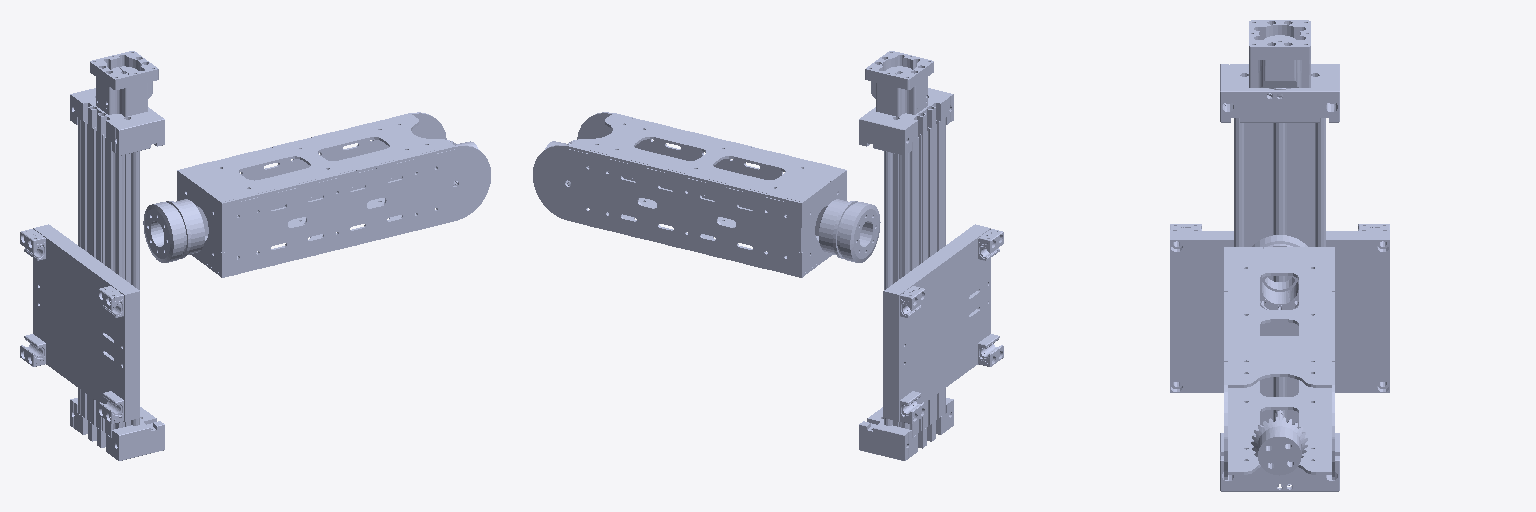
URDF robot description (gantry):
<?xml version="1.0" encoding="utf-8"?>
<!-- This URDF was automatically created by SolidWorks to URDF Exporter! Originally created by [author] ([email redacted]) 
     Commit Version: 1.6.0-4-g7f85cfe  Build Version: 1.6.7995.38578
     For more information, please see http://wiki.ros.org/sw_urdf_exporter -->
<robot
  name="gantry">
  <link
    name="base_link">
    <inertial>
      <origin
        xyz="0.273397746062969 0.0196335701823842 0.290424975718704"
        rpy="0 0 0" />
      <mass
        value="0.999102566758599" />
      <inertia
        ixx="0.000487064031842296"
        ixy="6.79087549974893E-07"
        ixz="1.23528453577318E-06"
        iyy="0.0114768570045371"
        iyz="-2.04757967514068E-08"
        izz="0.0112945243793031" />
    </inertial>
    <visual>
      <origin
        xyz="0 0 0"
        rpy="0 0 0" />
      <geometry>
        <mesh
          filename="package://gantry/meshes/base_link.STL" />
      </geometry>
      <material
        name="">
        <color
          rgba="0.792156862745098 0.819607843137255 0.933333333333333 1" />
      </material>
    </visual>
    <collision>
      <origin
        xyz="0 0 0"
        rpy="0 0 0" />
      <geometry>
        <mesh
          filename="package://gantry/meshes/base_link.STL" />
      </geometry>
    </collision>
  </link>
  <link
    name="X_gantry_link">
    <inertial>
      <origin
        xyz="-0.0698541814264949 0.412438460402414 0.612593275517403"
        rpy="0 0 0" />
      <mass
        value="2.7184408688585" />
      <inertia
        ixx="0.0276076361378352"
        ixy="-7.8180395929004E-05"
        ixz="-0.00894904523905823"
        iyy="0.0300491640122007"
        iyz="3.21852349643491E-05"
        izz="0.00955363785619821" />
    </inertial>
    <visual>
      <origin
        xyz="0 0 0"
        rpy="0 0 0" />
      <geometry>
        <mesh
          filename="package://gantry/meshes/X_gantry.STL" />
      </geometry>
      <material
        name="">
        <color
          rgba="0.792156862745098 0.819607843137255 0.933333333333333 1" />
      </material>
    </visual>
    <collision>
      <origin
        xyz="0 0 0"
        rpy="0 0 0" />
      <geometry>
        <mesh
          filename="package://gantry/meshes/X_gantry.STL" />
      </geometry>
    </collision>
  </link>
  <joint
    name="X_gantry"
    type="prismatic">
    <origin
      xyz="-0.10352 0.27877 0.55616"
      rpy="-1.5708 0 -2.7511" />
    <parent
      link="base_link" />
    <child
      link="X_gantry_link" />
    <axis
      xyz="0.92471 0 -0.38068" />
    <limit
      lower="0"
      upper="0"
      effort="0"
      velocity="0" />
  </joint>
  <link
    name="Y_gantry_link">
    <inertial>
      <origin
        xyz="-0.572532898605919 0.330664778033361 0.372011453080152"
        rpy="0 0 0" />
      <mass
        value="1.32530018007877" />
      <inertia
        ixx="0.00687275954854803"
        ixy="-6.672305225229E-07"
        ixz="-0.000824318311314372"
        iyy="0.00261475168874748"
        iyz="2.05567113830463E-07"
        izz="0.00521023975719679" />
    </inertial>
    <visual>
      <origin
        xyz="0 0 0"
        rpy="0 0 0" />
      <geometry>
        <mesh
          filename="package://gantry/meshes/Y_gantry.STL" />
      </geometry>
      <material
        name="">
        <color
          rgba="0.792156862745098 0.819607843137255 0.933333333333333 1" />
      </material>
    </visual>
    <collision>
      <origin
        xyz="0 0 0"
        rpy="0 0 0" />
      <geometry>
        <mesh
          filename="package://gantry/meshes/Y_gantry.STL" />
      </geometry>
    </collision>
  </link>
  <joint
    name="Y_gantry"
    type="prismatic">
    <origin
      xyz="0.38439 0 0.19344"
      rpy="0 0 0" />
    <parent
      link="X_gantry_link" />
    <child
      link="Y_gantry_link" />
    <axis
      xyz="0.38068 0 0.92471" />
    <limit
      lower="0"
      upper="0"
      effort="0"
      velocity="0" />
  </joint>
  <link
    name="Z_gantry_link">
    <inertial>
      <origin
        xyz="-0.456176964938818 0.104673786807244 0.796550541009001"
        rpy="0 0 0" />
      <mass
        value="0.403068685283753" />
      <inertia
        ixx="0.00106965141676946"
        ixy="-2.56264719037376E-07"
        ixz="-0.000122132318438366"
        iyy="0.000362088816461054"
        iyz="6.50918959412524E-08"
        izz="0.000823258357320967" />
    </inertial>
    <visual>
      <origin
        xyz="0 0 0"
        rpy="0 0 0" />
      <geometry>
        <mesh
          filename="package://gantry/meshes/Z_gantry.STL" />
      </geometry>
      <material
        name="">
        <color
          rgba="0.792156862745098 0.819607843137255 0.933333333333333 1" />
      </material>
    </visual>
    <collision>
      <origin
        xyz="0 0 0"
        rpy="0 0 0" />
      <geometry>
        <mesh
          filename="package://gantry/meshes/Z_gantry.STL" />
      </geometry>
    </collision>
  </link>
  <joint
    name="Z_gantry"
    type="prismatic">
    <origin
      xyz="-0.16631 0.1855 -0.40398"
      rpy="0 0 0" />
    <parent
      link="Y_gantry_link" />
    <child
      link="Z_gantry_link" />
    <axis
      xyz="0 1 0" />
    <limit
      lower="0"
      upper="0"
      effort="0"
      velocity="0" />
  </joint>
  <link
    name="R_arm_link">
    <inertial>
      <origin
        xyz="0.000172992865614646 -9.99205360449618E-05 -0.158657609193451"
        rpy="0 0 0" />
      <mass
        value="0.408324104757072" />
      <inertia
        ixx="0.00270494526203626"
        ixy="1.76654813115539E-18"
        ixz="-5.79230427057177E-09"
        iyy="0.00273630527789283"
        iyz="4.93932358664184E-09"
        izz="0.000324233567972814" />
    </inertial>
    <visual>
      <origin
        xyz="0 0 0"
        rpy="0 0 0" />
      <geometry>
        <mesh
          filename="package://gantry/meshes/R_arm.STL" />
      </geometry>
      <material
        name="">
        <color
          rgba="0.792156862745098 0.819607843137255 0.933333333333333 1" />
      </material>
    </visual>
    <collision>
      <origin
        xyz="0 0 0"
        rpy="0 0 0" />
      <geometry>
        <mesh
          filename="package://gantry/meshes/R_arm.STL" />
      </geometry>
    </collision>
  </link>
  <joint
    name="R_arm"
    type="continuous">
    <origin
      xyz="-0.47182 0.10003 0.80314"
      rpy="3.1416 -1.1803 0" />
    <parent
      link="Z_gantry_link" />
    <child
      link="R_arm_link" />
    <axis
      xyz="0 0 1" />
  </joint>
  <link
    name="TMS_1_link">
    <inertial>
      <origin
        xyz="-1.73909482529822E-05 3.88578058618805E-15 -4.22443393599536E-05"
        rpy="0 0 0" />
      <mass
        value="0.0116350451938087" />
      <inertia
        ixx="4.37666591544049E-06"
        ixy="9.70035806134583E-08"
        ixz="-1.54880682052679E-06"
        iyy="4.79724370288521E-06"
        iyz="-3.99339716317391E-08"
        izz="1.25206583486366E-06" />
    </inertial>
    <visual>
      <origin
        xyz="0 0 0"
        rpy="0 0 0" />
      <geometry>
        <mesh
          filename="package://gantry/meshes/TMS_1.STL" />
      </geometry>
      <material
        name="">
        <color
          rgba="0.792156862745098 0.819607843137255 0.933333333333333 1" />
      </material>
    </visual>
    <collision>
      <origin
        xyz="0 0 0"
        rpy="0 0 0" />
      <geometry>
        <mesh
          filename="package://gantry/meshes/TMS_1.STL" />
      </geometry>
    </collision>
  </link>
  <joint
    name="TMS_1"
    type="continuous">
    <origin
      xyz="0.00034733 -0.00025 -0.34785"
      rpy="2.266 -0.99955 0.78967" />
    <parent
      link="R_arm_link" />
    <child
      link="TMS_1_link" />
    <axis
      xyz="0.38068 0 0.92471" />
  </joint>
  <link
    name="TMS_HEAD_link">
    <inertial>
      <origin
        xyz="-0.0274259091798583 -0.011992160041742 0.011290539162308"
        rpy="0 0 0" />
      <mass
        value="0.0428411645602252" />
      <inertia
        ixx="9.69581928427433E-06"
        ixy="-8.55825624289951E-07"
        ixz="8.05759898039751E-07"
        iyy="1.12788800479917E-05"
        iyz="3.52375864231027E-07"
        izz="1.13213908836374E-05" />
    </inertial>
    <visual>
      <origin
        xyz="0 0 0"
        rpy="0 0 0" />
      <geometry>
        <mesh
          filename="package://gantry/meshes/TMS_HEAD.STL" />
      </geometry>
      <material
        name="">
        <color
          rgba="0.792156862745098 0.819607843137255 0.933333333333333 1" />
      </material>
    </visual>
    <collision>
      <origin
        xyz="0 0 0"
        rpy="0 0 0" />
      <geometry>
        <mesh
          filename="package://gantry/meshes/TMS_HEAD.STL" />
      </geometry>
    </collision>
  </link>
  <joint
    name="TMS_HEAD"
    type="continuous">
    <origin
      xyz="0 0 0"
      rpy="1.3245 0.71549 -0.069725" />
    <parent
      link="TMS_1_link" />
    <child
      link="TMS_HEAD_link" />
    <axis
      xyz="0.85728 0.37485 -0.35292" />
  </joint>
</robot>

--- Render facts (derived) ---
The picture shows the robot from 3 angles, left to right: view 1: azimuth 30°, elevation 25°; view 2: azimuth 150°, elevation 25°; view 3: azimuth 270°, elevation 25°; orthographic projection.
Model gantry with 7 links and 6 joints (3 continuous, 3 prismatic), rooted at base_link, posed all joints at 0.
Links seen in each view (by area): view 1: R_arm_link, Y_gantry_link; view 2: R_arm_link, Y_gantry_link; view 3: Y_gantry_link, R_arm_link, TMS_HEAD_link.
Link boxes in pixels (x1=…): R_arm_link: x1=143, y1=112, x2=490, y2=277; Y_gantry_link: x1=20, y1=51, x2=164, y2=460; R_arm_link: x1=533, y1=112, x2=880, y2=277; Y_gantry_link: x1=859, y1=51, x2=1003, y2=460; Y_gantry_link: x1=1170, y1=20, x2=1389, y2=491; R_arm_link: x1=1224, y1=235, x2=1334, y2=479; TMS_HEAD_link: x1=1251, y1=410, x2=1307, y2=475.
Bounding box of the posed robot: 0.5154 × 0.2 × 0.448 m (x, y, z).
Meshes: 7 distinct files referenced, 3 mesh visuals loaded (3 binary STL); not drawn: 4 (reference not matched to a file when rendering).